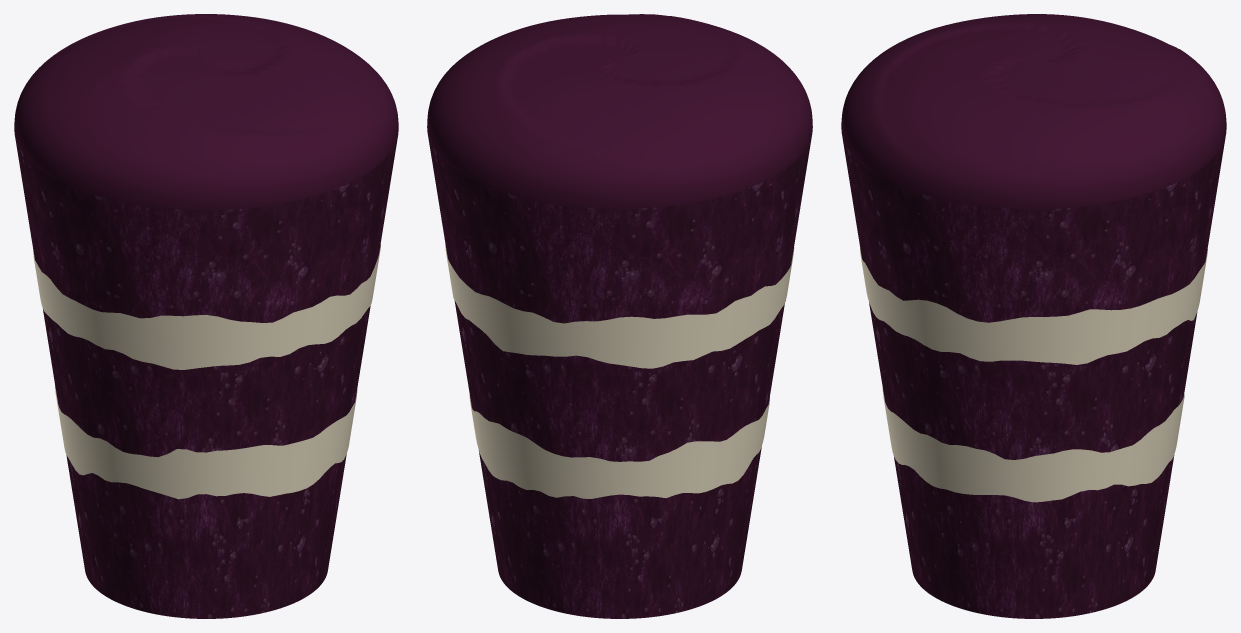
File: base-acai-copo-500.glb
3 renders of one model, left to right at view 1: azimuth 30°, elevation 25°; view 2: azimuth 150°, elevation 25°; view 3: azimuth 270°, elevation 25°, orthographic.
Parts seen in each view (by area): view 1: base-acai-copo-500, base-acai-copo-500-camada-2, base-acai-copo-500-camada-1; view 2: base-acai-copo-500, base-acai-copo-500-camada-2, base-acai-copo-500-camada-1; view 3: base-acai-copo-500, base-acai-copo-500-camada-2, base-acai-copo-500-camada-1.
Part boxes in pixels (x1=…): base-acai-copo-500: x1=14, y1=14, x2=398, y2=618; base-acai-copo-500-camada-2: x1=33, y1=244, x2=380, y2=369; base-acai-copo-500-camada-1: x1=55, y1=385, x2=357, y2=499; base-acai-copo-500: x1=427, y1=14, x2=812, y2=618; base-acai-copo-500-camada-2: x1=445, y1=244, x2=794, y2=368; base-acai-copo-500-camada-1: x1=469, y1=395, x2=769, y2=498; base-acai-copo-500: x1=841, y1=14, x2=1226, y2=618; base-acai-copo-500-camada-2: x1=860, y1=248, x2=1207, y2=364; base-acai-copo-500-camada-1: x1=882, y1=388, x2=1184, y2=502.
Size of the model in its own units: 0.0922 by 0.1342 by 0.0922.
Materials: 3 (1 with a texture image).
